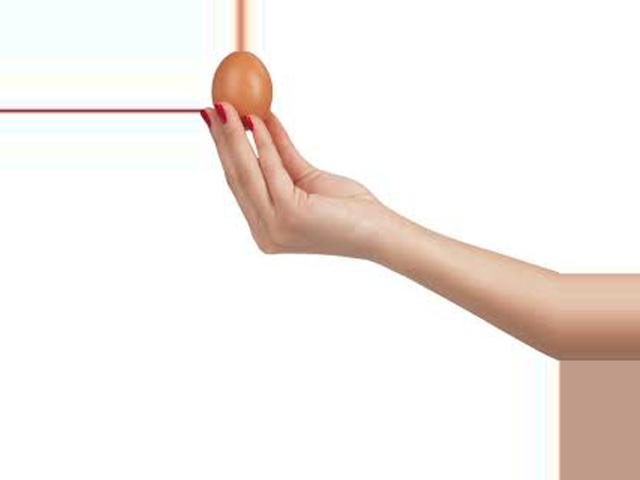egg: (211, 52, 272, 128)
